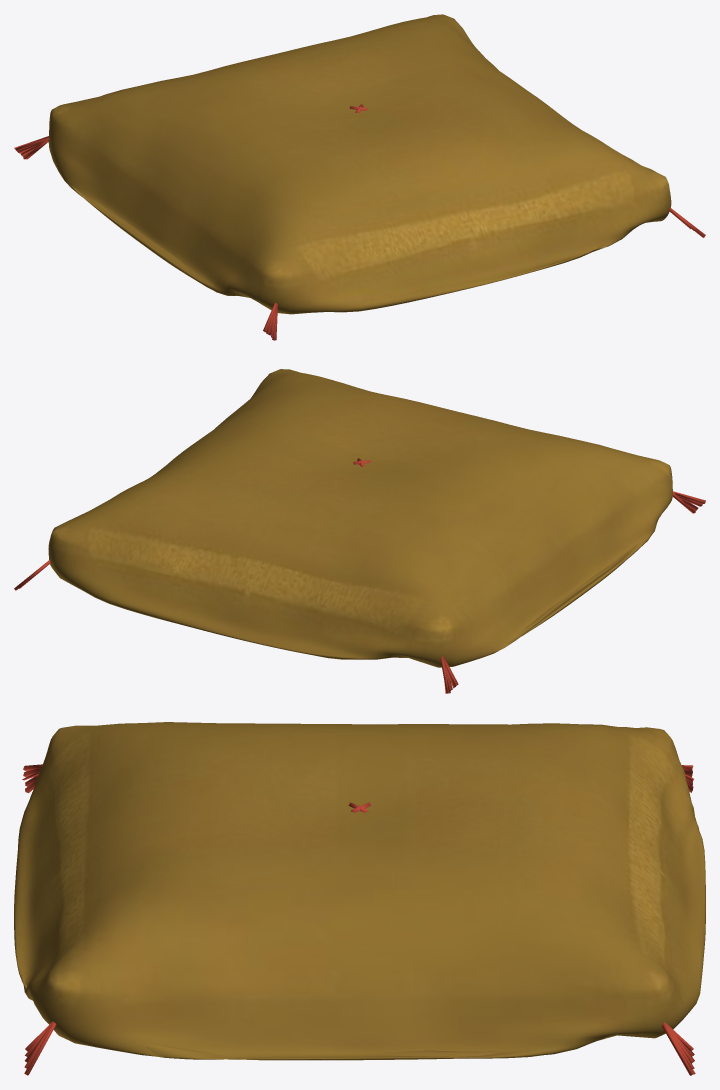
File: zabuton_mustard.glb
The picture shows the model from 3 angles, top to bottom: view 1: azimuth 30°, elevation 25°; view 2: azimuth 150°, elevation 25°; view 3: azimuth 270°, elevation 25°; orthographic projection. The views are drawn at different scales.
Visible parts, largest first — view 1: zabuton_mustard_cushion, zabuton_mustard_thread_red; view 2: zabuton_mustard_cushion, zabuton_mustard_thread_red; view 3: zabuton_mustard_cushion, zabuton_mustard_thread_red.
Boxes of the visible parts, <box> form: zabuton_mustard_cushion: <box>48,14,671,314</box>; zabuton_mustard_thread_red: <box>14,104,705,340</box>; zabuton_mustard_cushion: <box>48,369,672,667</box>; zabuton_mustard_thread_red: <box>14,458,705,693</box>; zabuton_mustard_cushion: <box>14,722,705,1060</box>; zabuton_mustard_thread_red: <box>22,764,695,1075</box>.
Bounding box in the file's own units: 1.18 × 0.2474 × 1.18.
2 materials, 1 textured.
